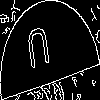U: (25, 25, 53, 79)
